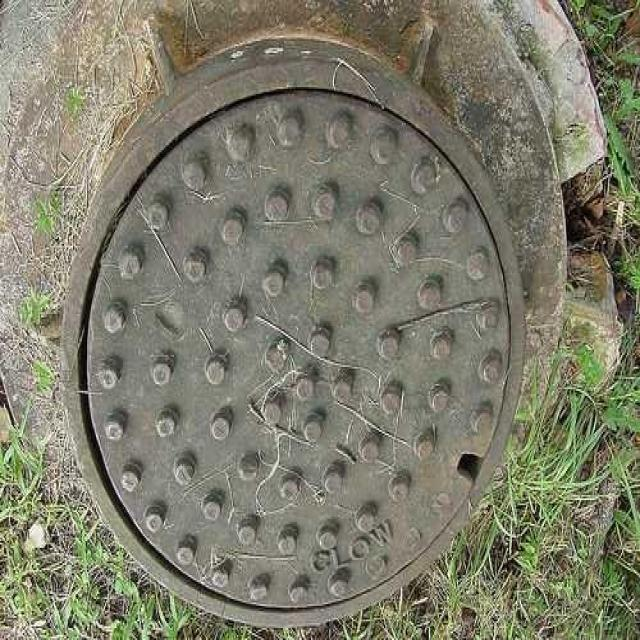manhole: (60, 34, 525, 631)
